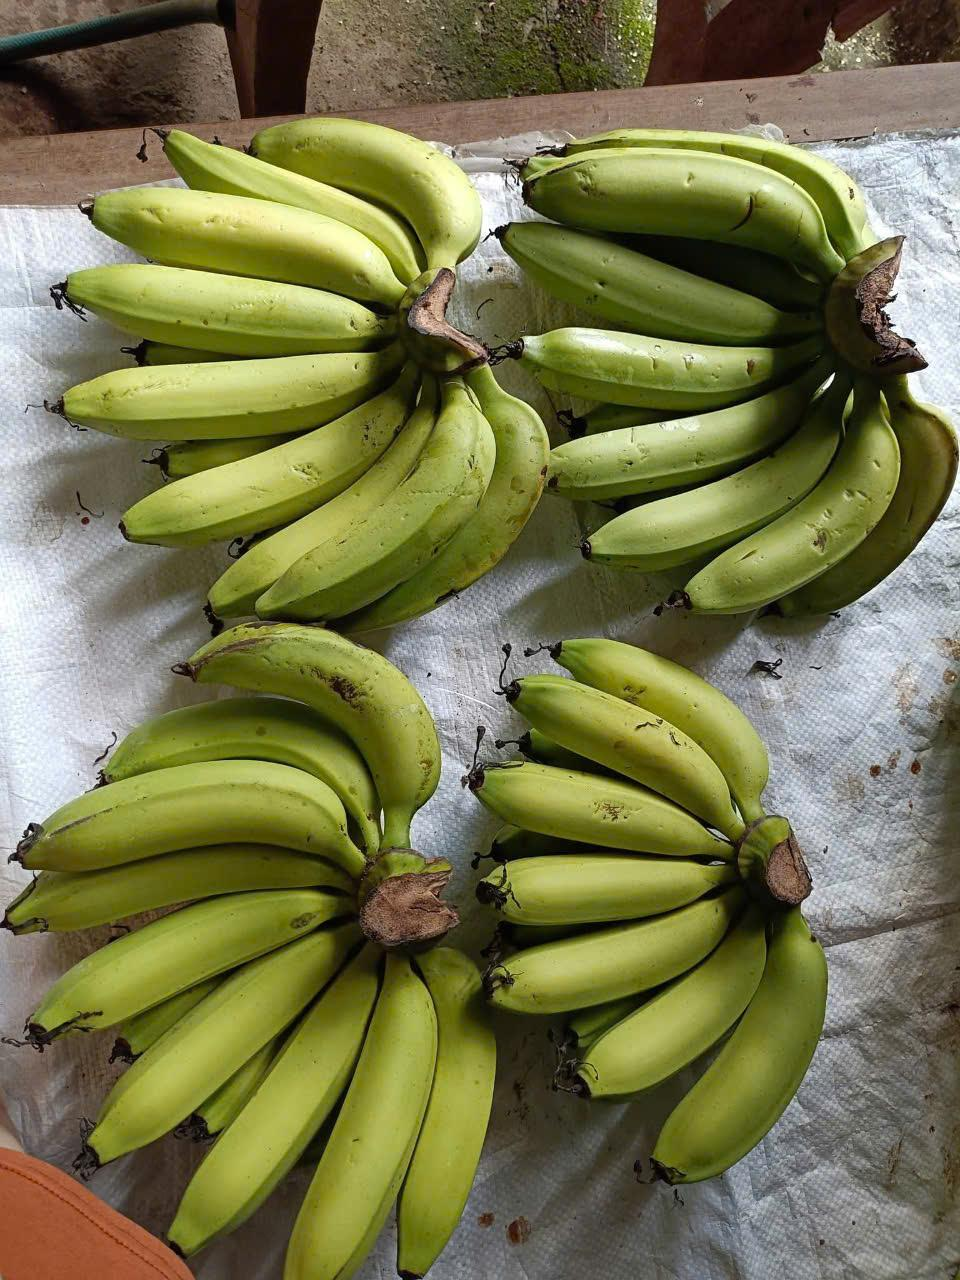banana: (73, 87, 527, 610), (480, 617, 827, 1190), (17, 913, 520, 1277), (12, 630, 445, 902), (505, 137, 905, 387), (557, 387, 960, 635)
